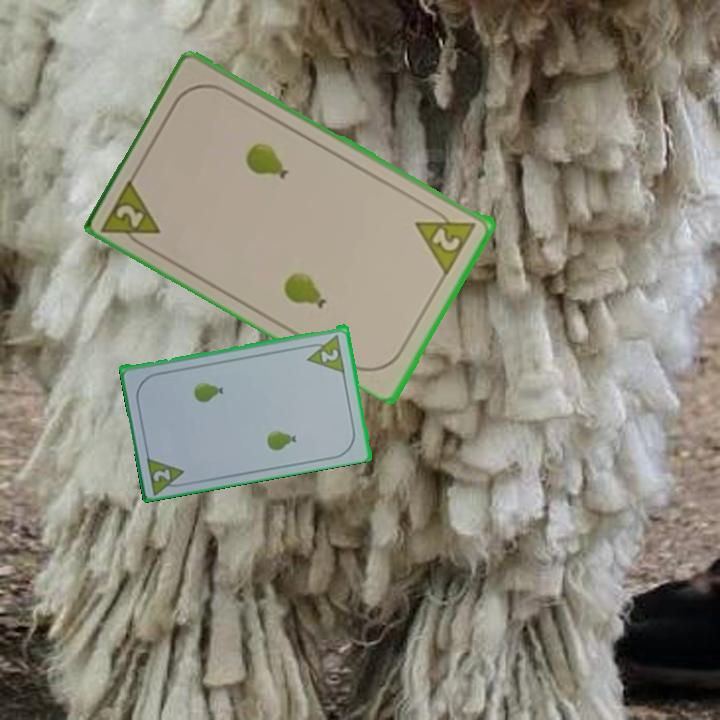2p: (99, 173, 165, 254), (412, 200, 480, 276), (318, 345, 342, 364), (150, 465, 174, 484)
